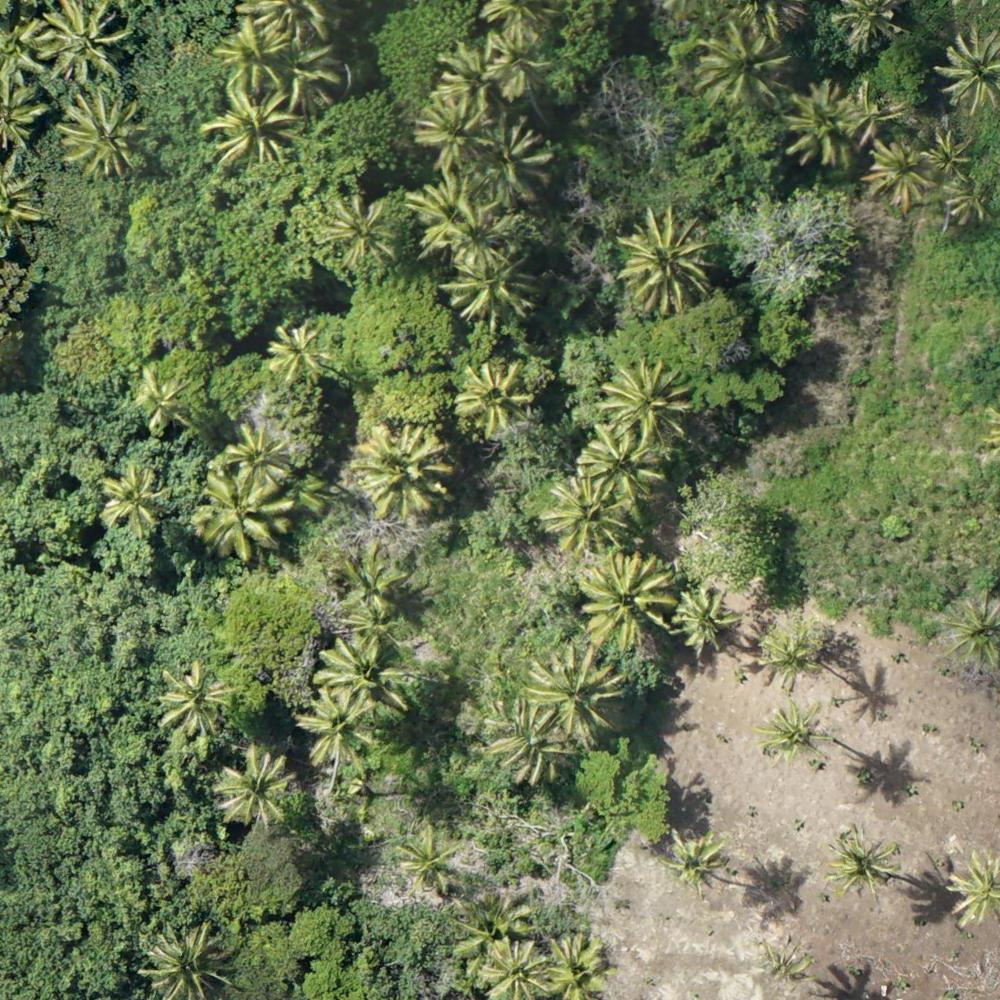Palm: (616, 204, 715, 314), (529, 644, 620, 744), (358, 422, 455, 513), (586, 552, 681, 643), (695, 28, 793, 111), (471, 112, 558, 204), (202, 471, 295, 556), (578, 423, 668, 510), (603, 358, 689, 443), (484, 698, 572, 781), (789, 80, 871, 166), (141, 921, 235, 996), (441, 245, 530, 324), (213, 83, 295, 168), (64, 90, 147, 173), (320, 639, 413, 713), (549, 478, 635, 551), (45, 1, 129, 75), (156, 665, 235, 743), (455, 360, 535, 436), (212, 13, 290, 88), (302, 685, 373, 765), (412, 171, 484, 249), (91, 464, 168, 536), (826, 822, 898, 898), (413, 95, 488, 167), (219, 746, 291, 821), (543, 929, 618, 1000), (325, 192, 401, 262), (753, 610, 822, 686), (336, 557, 406, 631), (392, 820, 459, 897), (483, 23, 553, 94), (869, 133, 938, 205), (936, 591, 1000, 668), (666, 822, 737, 891), (475, 934, 548, 1000), (759, 696, 829, 761), (267, 321, 333, 385), (673, 586, 740, 649), (224, 422, 288, 478), (130, 373, 189, 432), (751, 936, 811, 984), (945, 169, 999, 222), (923, 129, 974, 178)
